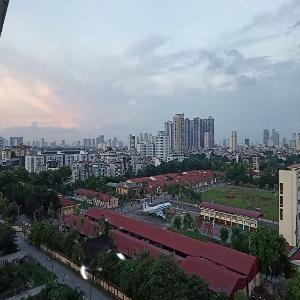drone: (66, 215, 138, 287)
